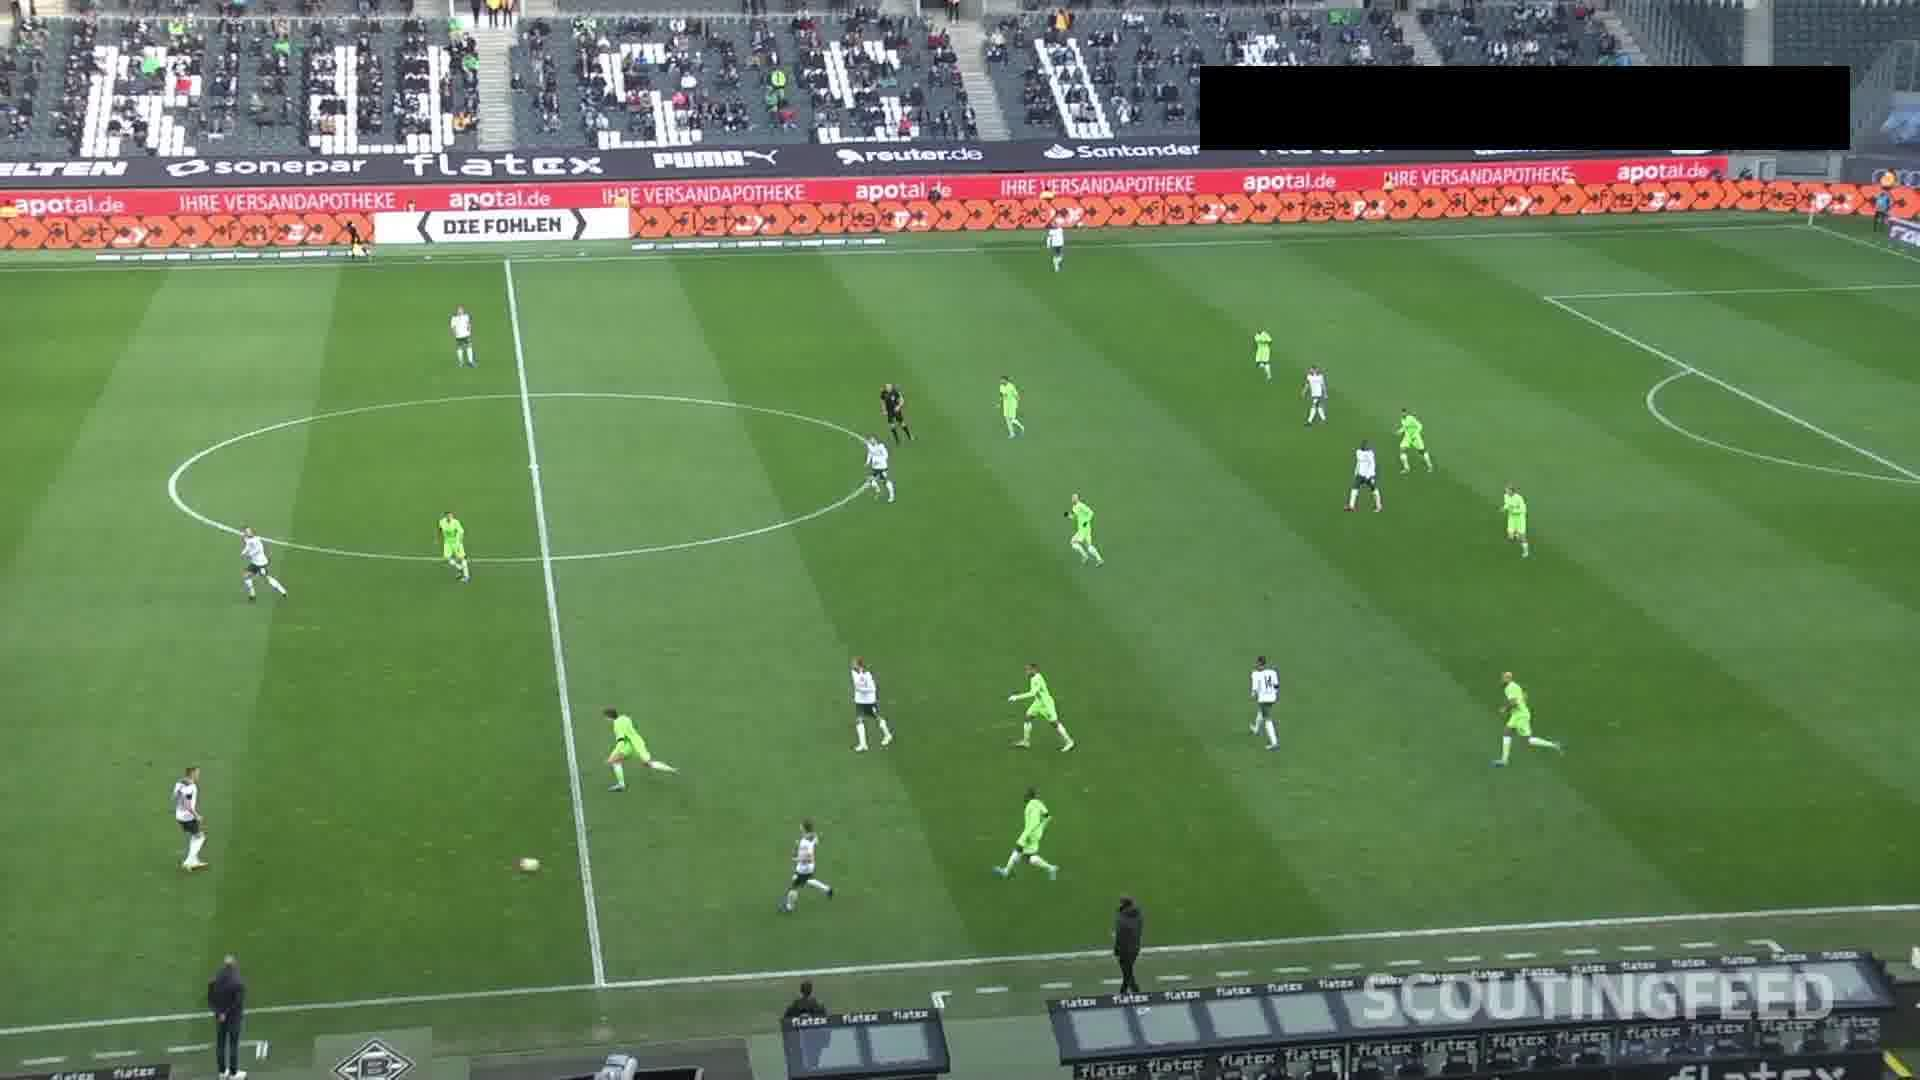football: (517, 855, 541, 875)
